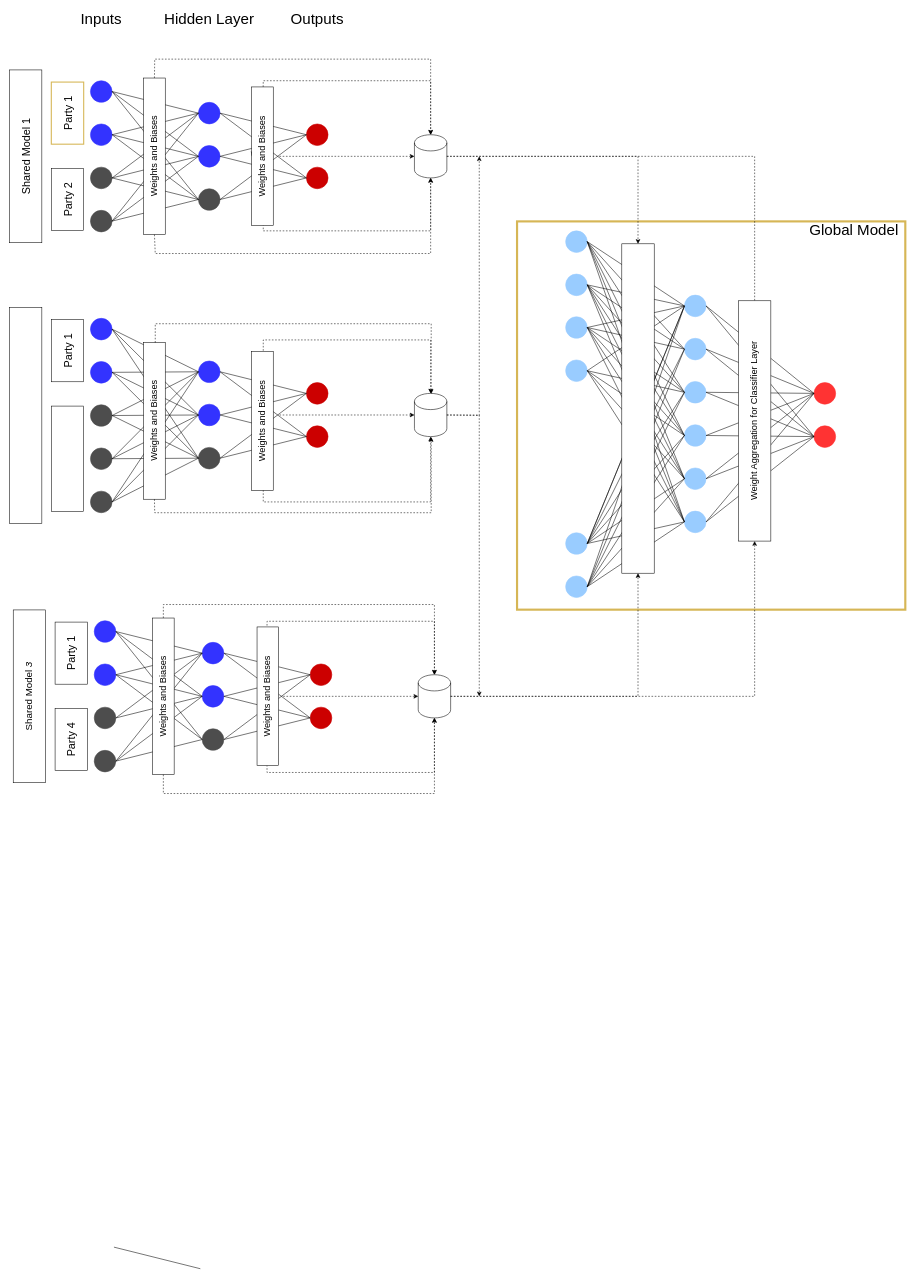
The diagram is 916 pixels wide and 1279 high, and some of its shapes have lost their labels. The shapes that lost their labels are listed below. From the top down, each one's centre as x and y in pixels, then its label:
point (25, 415): Shared Model 2
point (637, 408): Weight Aggregation for First Hidden Layer
point (67, 458): Party 3
